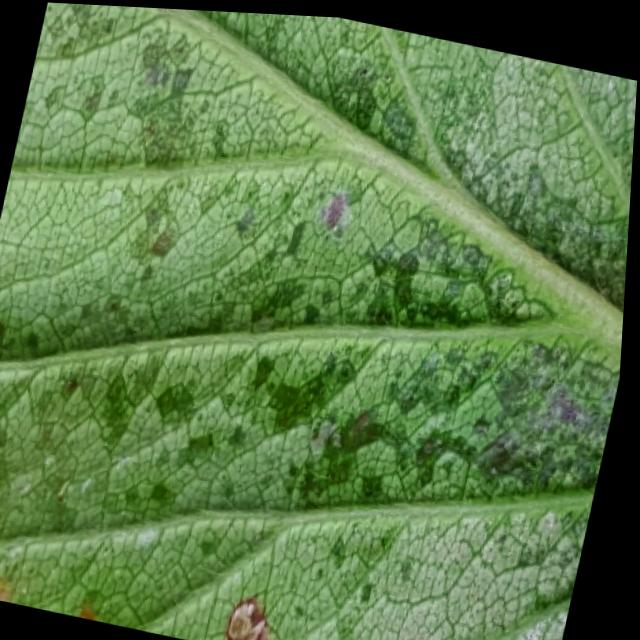Angular Leafspot: (0, 2, 634, 640)
